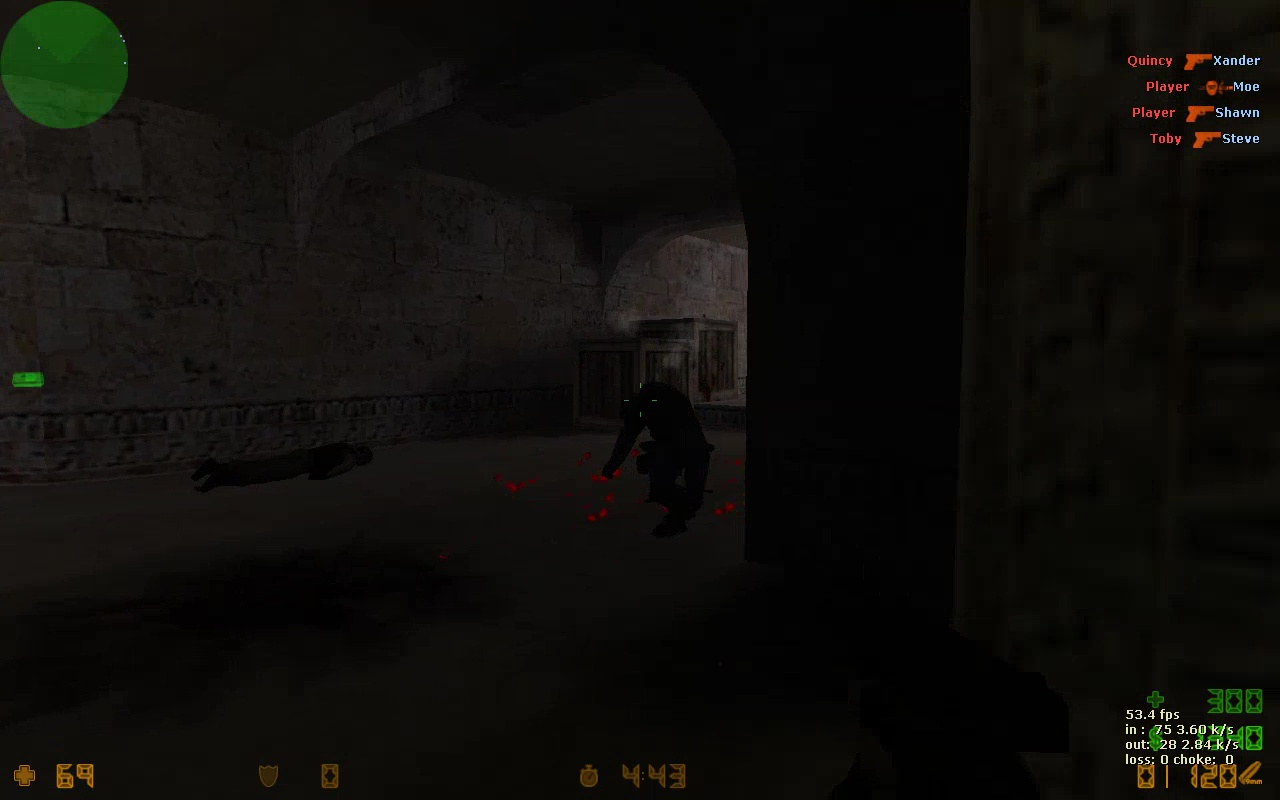ct: (611, 382, 716, 550)
dead: (194, 443, 375, 496)
